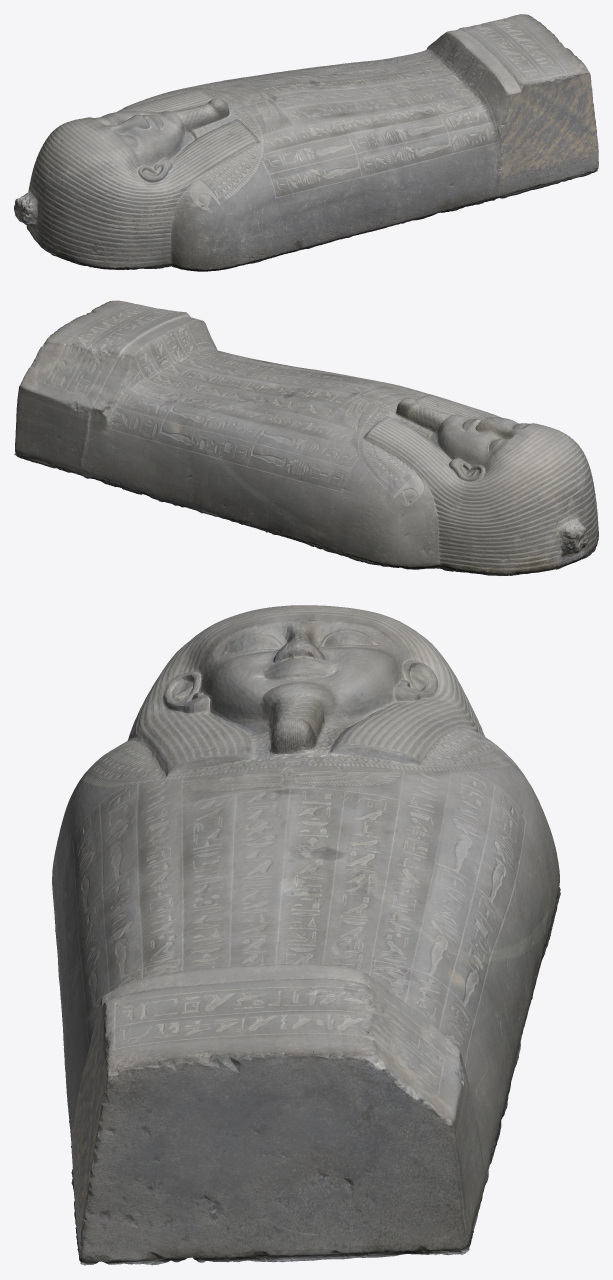
Rendered from doctor.glb.
The picture shows the model from 3 angles, top to bottom: view 1: azimuth 30°, elevation 25°; view 2: azimuth 150°, elevation 25°; view 3: azimuth 270°, elevation 25°; orthographic projection. The views are drawn at different scales.
Visible parts, largest first — view 1: doctor-scaled; view 2: doctor-scaled; view 3: doctor-scaled.
Part boxes in pixels (<box>): doctor-scaled: <box>14,14,598,271</box>; doctor-scaled: <box>14,300,598,576</box>; doctor-scaled: <box>52,605,560,1265</box>.
Size of the model in its own units: 2.51 by 0.5364 by 1.07.
4 materials, 4 textured.
